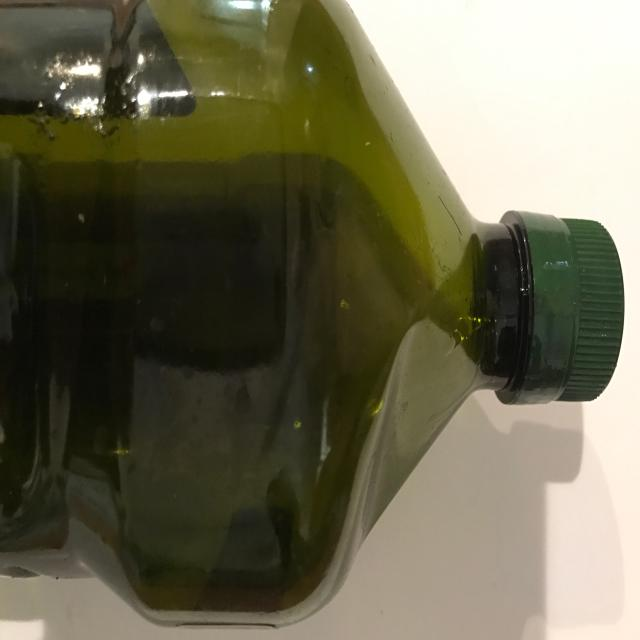plastic: (0, 0, 625, 631)
